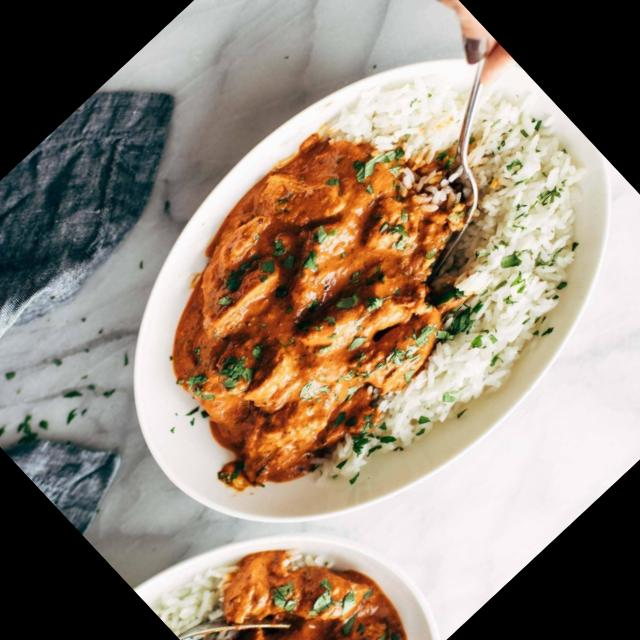chicken: (117, 118, 510, 508), (183, 517, 431, 640)
rice: (366, 29, 640, 315), (337, 262, 586, 504), (148, 564, 242, 640)
